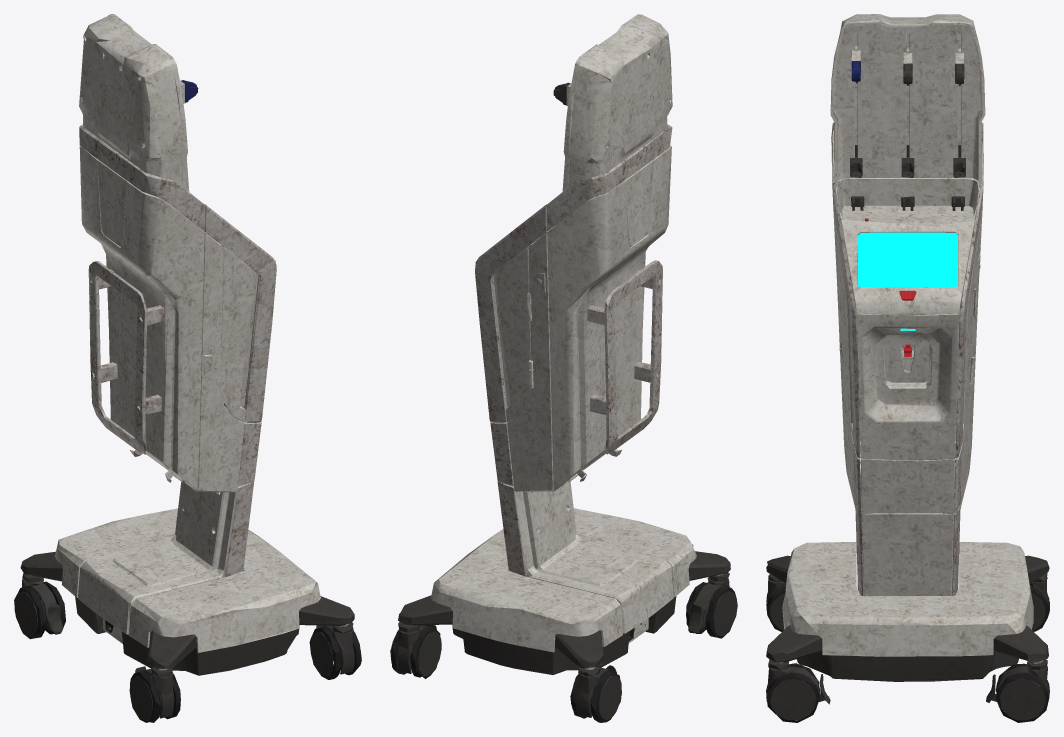
File: craft_r22_contrast_syringe.glb
3 renders of one model, left to right at view 1: azimuth 30°, elevation 25°; view 2: azimuth 150°, elevation 25°; view 3: azimuth 270°, elevation 25°, orthographic.
Visible parts, largest first — view 1: craft_r22_contrast_syringe; view 2: craft_r22_contrast_syringe; view 3: craft_r22_contrast_syringe.
Part boxes in pixels (x1,y1,x2,y2): craft_r22_contrast_syringe: [14, 14, 361, 722]; craft_r22_contrast_syringe: [390, 14, 737, 722]; craft_r22_contrast_syringe: [766, 14, 1049, 722].
Bounding box in the file's own units: 0.5674 × 1.64 × 0.6699.
Materials: 9 (8 with a texture image).
